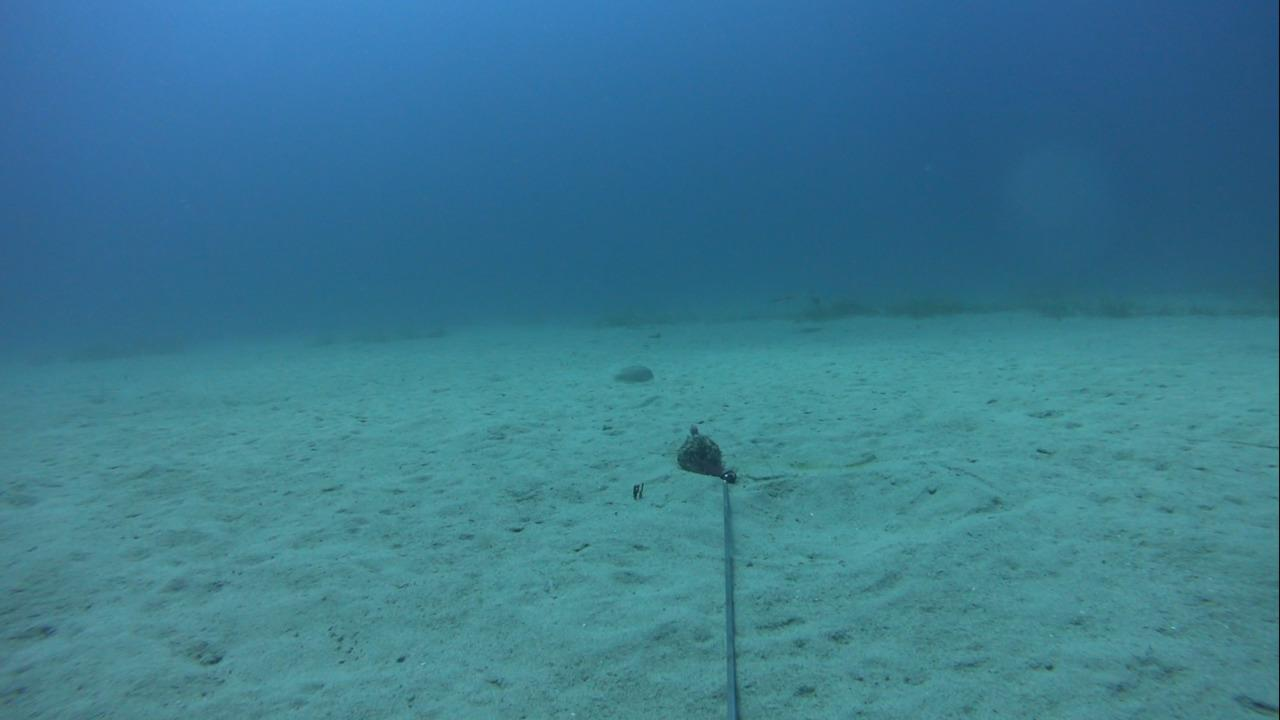raor: (599, 358, 658, 387)
